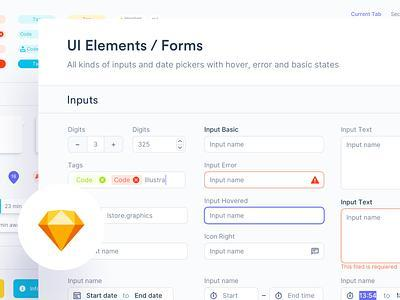input: (205, 173, 326, 190), (205, 137, 325, 154), (205, 208, 325, 225), (206, 245, 325, 260), (269, 288, 326, 300), (204, 289, 261, 300)
label: (68, 277, 105, 286), (340, 198, 375, 207), (341, 125, 375, 134), (204, 277, 241, 285), (204, 199, 251, 205), (203, 162, 238, 170), (203, 127, 242, 133), (203, 233, 236, 240), (131, 126, 152, 134), (69, 127, 89, 135), (68, 162, 87, 170)
